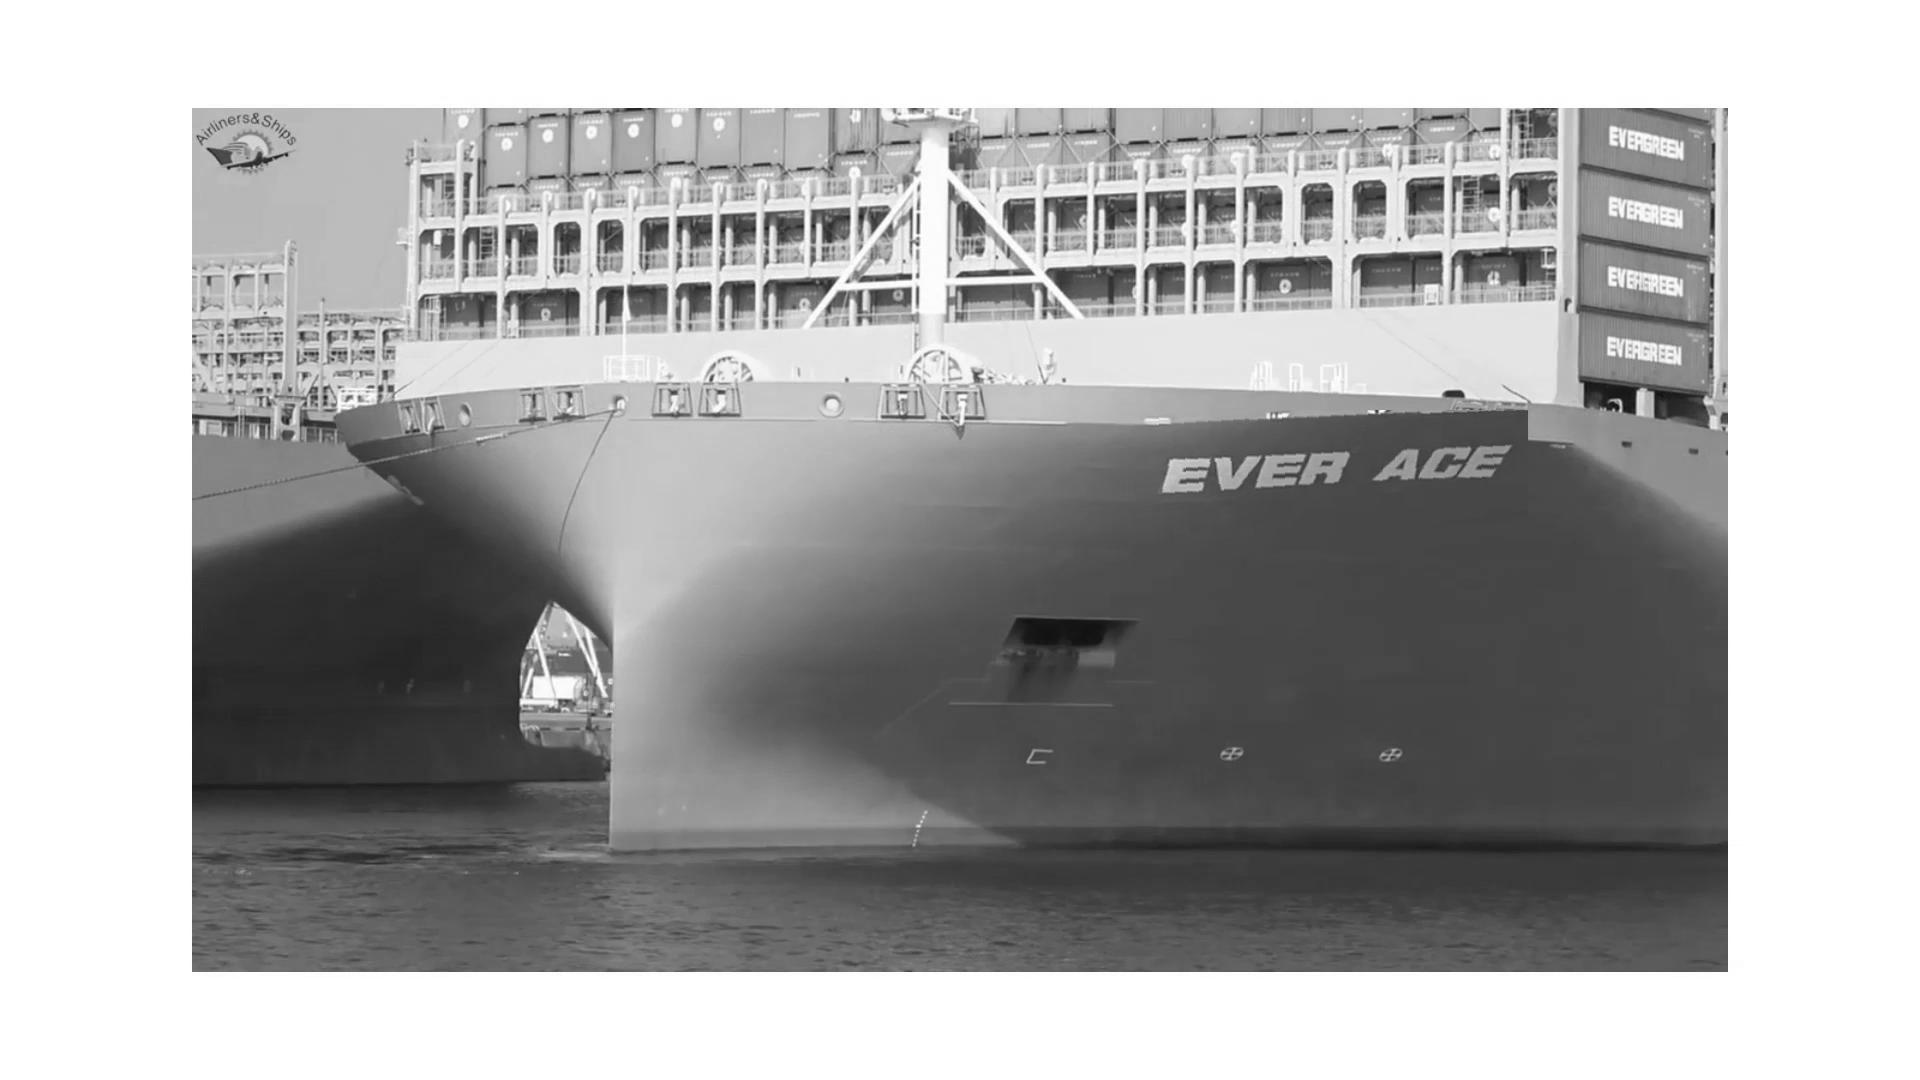OCR: (1153, 410, 1528, 551)
